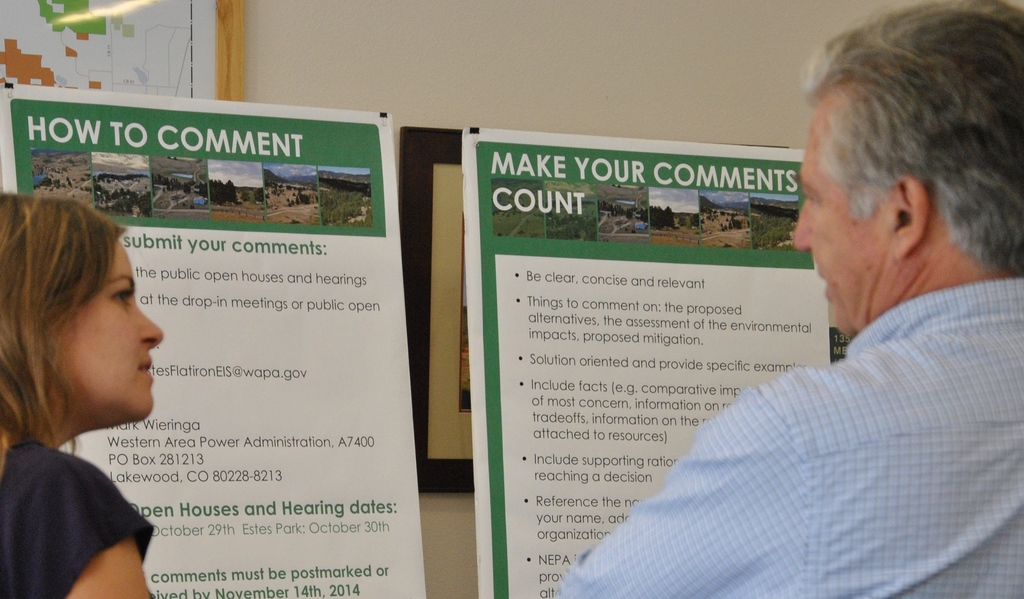face: (1, 222, 167, 422)
